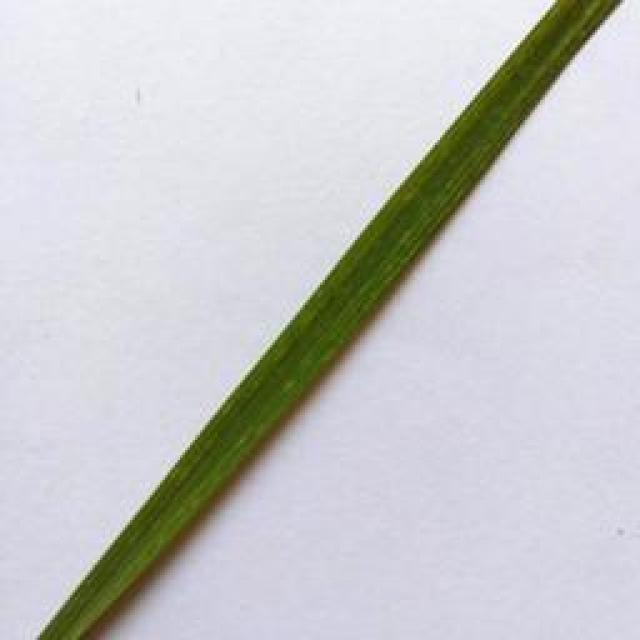Healthy-Plant: (41, 0, 620, 640)
